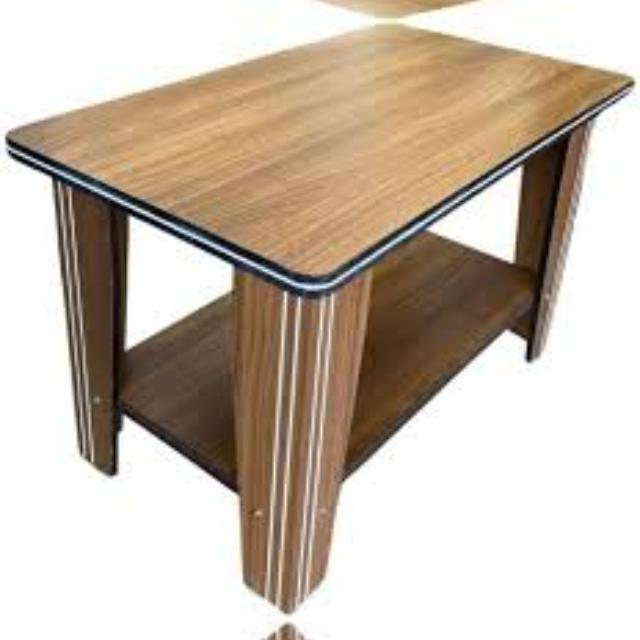obstacle: (7, 19, 640, 618), (7, 618, 640, 640), (7, 0, 640, 20)
